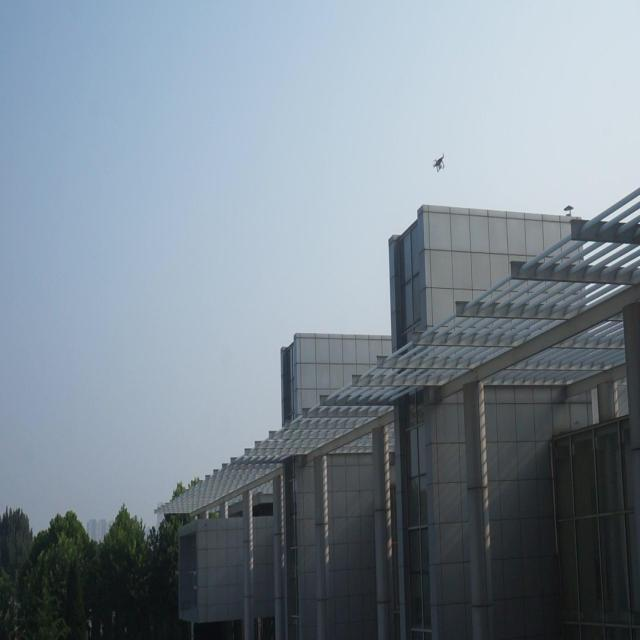drone: (432, 148, 446, 174)
